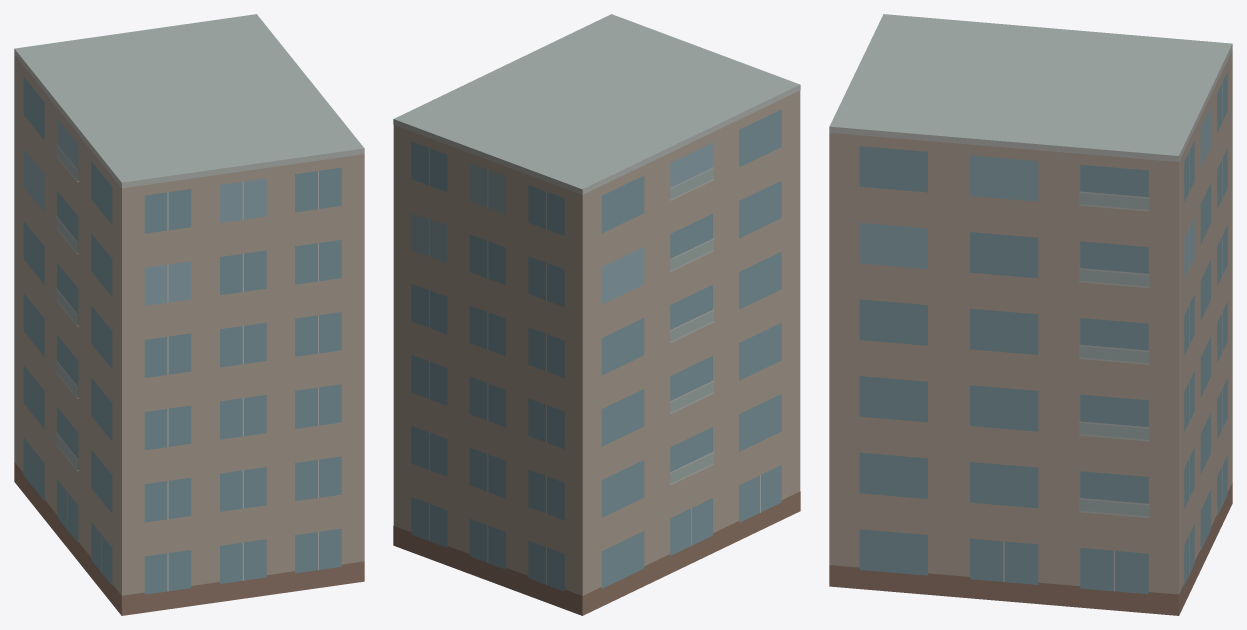
File: survey-upis-32704100.glb
3 renders of one model, left to right at view 1: azimuth 30°, elevation 25°; view 2: azimuth 150°, elevation 25°; view 3: azimuth 270°, elevation 25°, orthographic. The views are drawn at different scales.
Visible parts, largest first — view 1: survey-upis-32704100.tmp; view 2: survey-upis-32704100.tmp; view 3: survey-upis-32704100.tmp.
Part boxes in pixels (<box>): survey-upis-32704100.tmp: <box>14,14,364,615</box>; survey-upis-32704100.tmp: <box>393,14,800,615</box>; survey-upis-32704100.tmp: <box>829,14,1232,615</box>.
Size of the model in its own units: 12.26 by 18.5 by 14.71.
